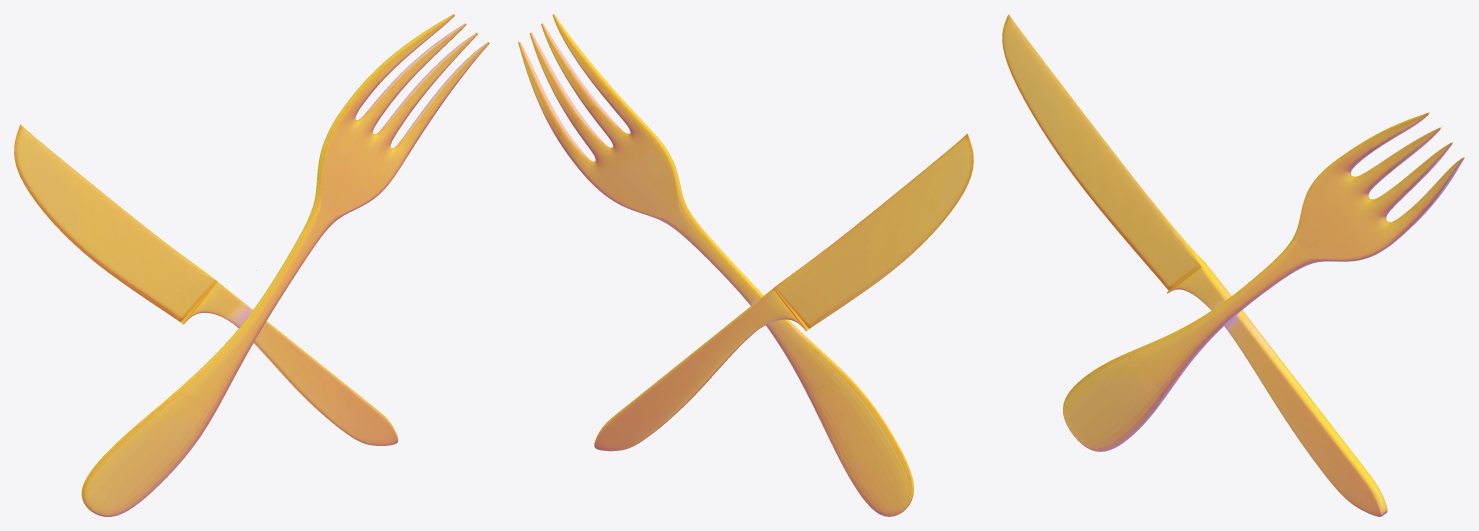
The model's file is INCONOGRAPHY_WELFARE_v2.glb.
3 views of the same model, side by side, from view 1: azimuth 30°, elevation 25°; view 2: azimuth 150°, elevation 25°; view 3: azimuth 330°, elevation 25° (orthographic).
Parts seen in each view (by area): view 1: knifeAndFork_fork, knifeAndFork_knife; view 2: knifeAndFork_fork, knifeAndFork_knife; view 3: knifeAndFork_fork, knifeAndFork_knife.
Boxes of the visible parts, x1,y1,x2,y2 form: knifeAndFork_fork: (81,14,489,516); knifeAndFork_knife: (14,124,398,445); knifeAndFork_fork: (518,14,913,516); knifeAndFork_knife: (594,133,973,451); knifeAndFork_fork: (1063,112,1464,451); knifeAndFork_knife: (1002,14,1387,516).
Bounding box in the file's own units: 0.9066 × 0.7817 × 0.0813.
Materials: 4 (4 with a texture image).
